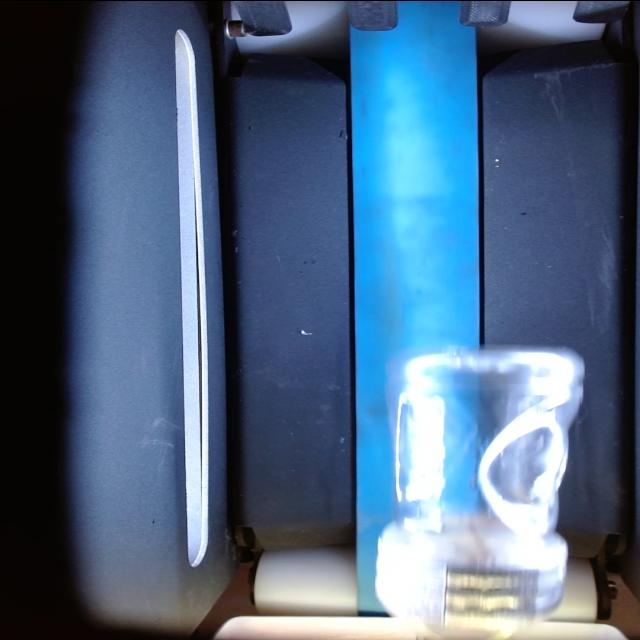bottle: (375, 348, 581, 632)
